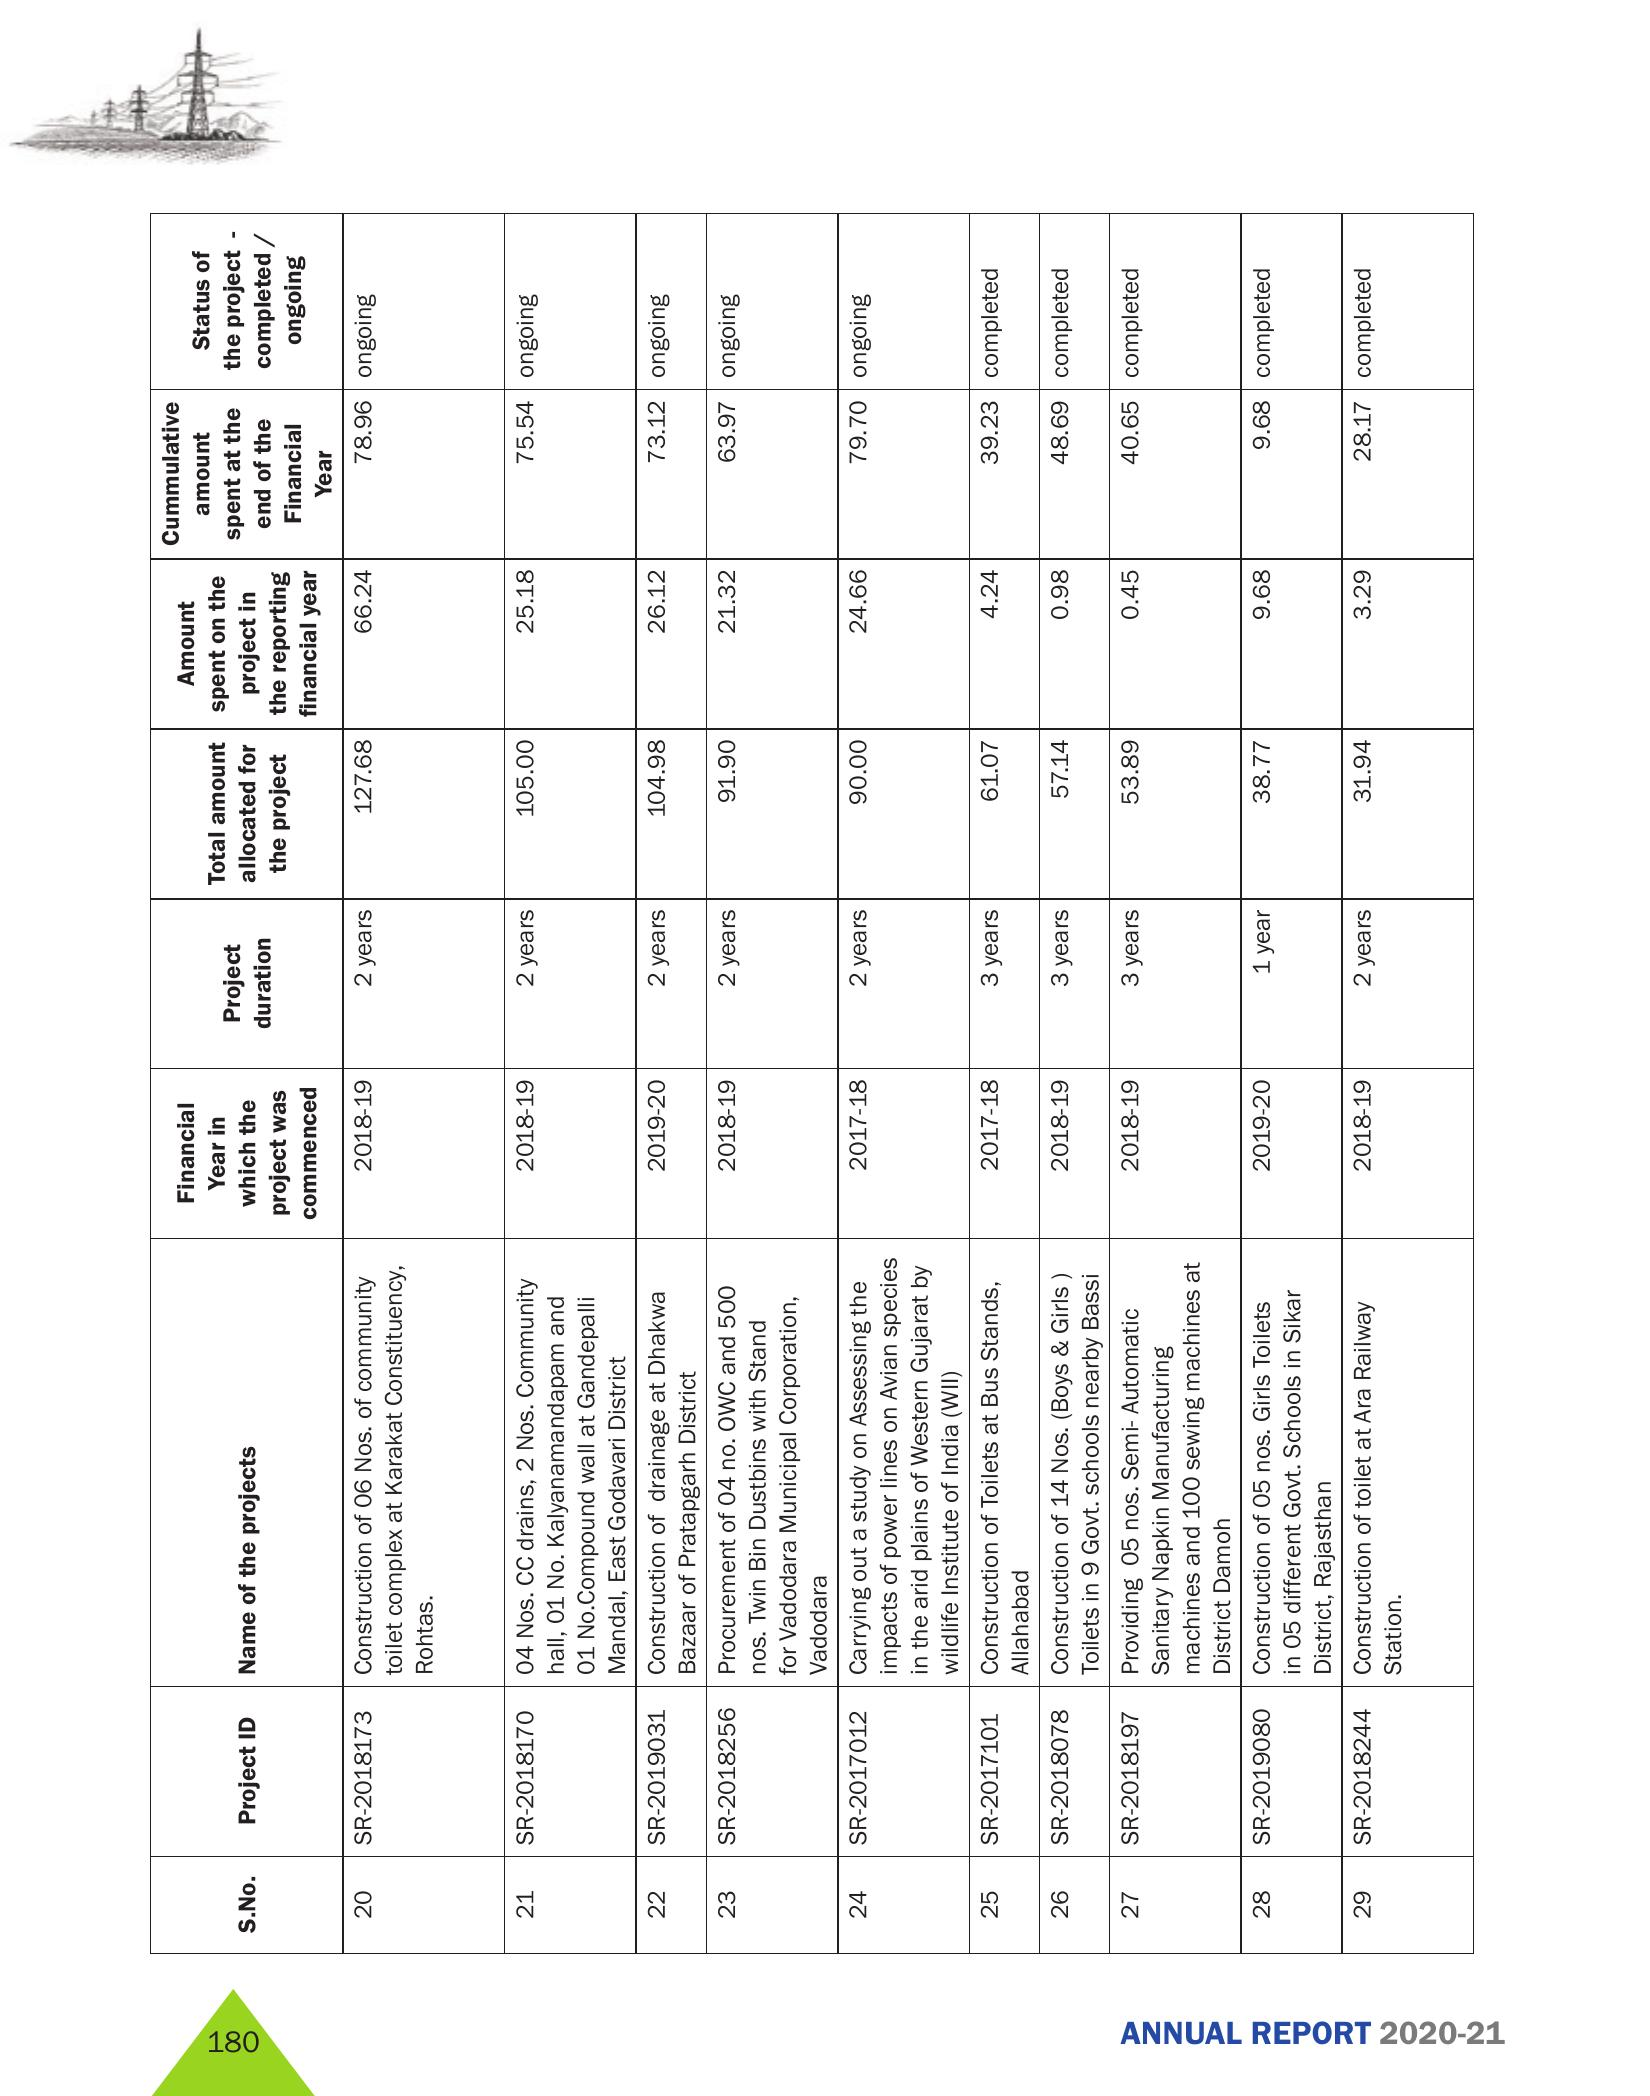Footer: (0, 1968, 1650, 2096)
Header: (0, 0, 1650, 172)
Table: (111, 213, 1511, 1965)
